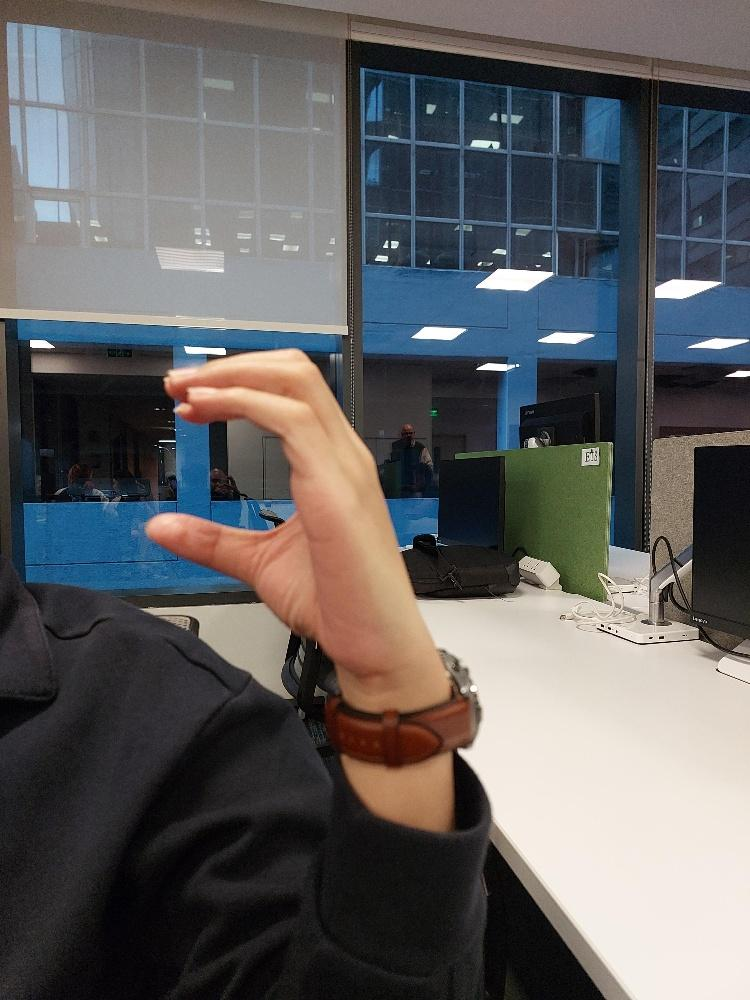c: (146, 347, 403, 651)
